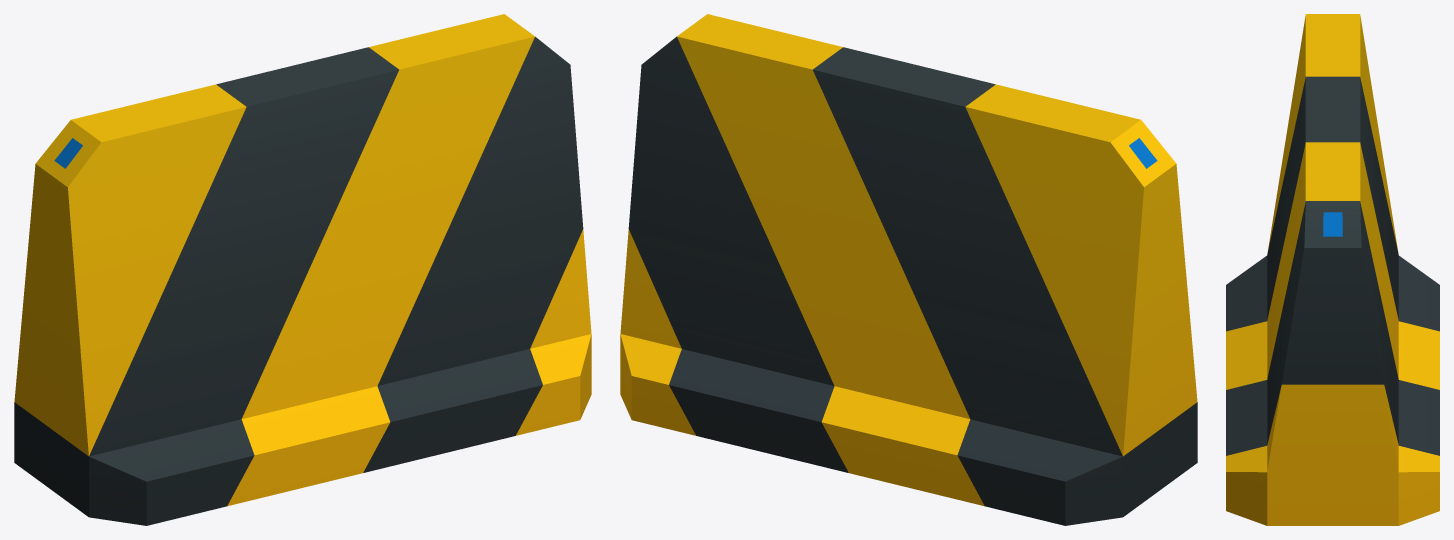
File: Barriaer_004.fbx
3 views of the same model, side by side, from view 1: azimuth 30°, elevation 25°; view 2: azimuth 150°, elevation 25°; view 3: azimuth 270°, elevation 25° (orthographic). The views are drawn at different scales.
Parts seen in each view (by area): view 1: Barriaer_004; view 2: Barriaer_004; view 3: Barriaer_004.
Part boxes in pixels (<box>): Barriaer_004: <box>14,14,591,525</box>; Barriaer_004: <box>620,14,1197,525</box>; Barriaer_004: <box>1226,14,1439,525</box>.
Bounding box in the file's own units: 120 × 50 × 80.
